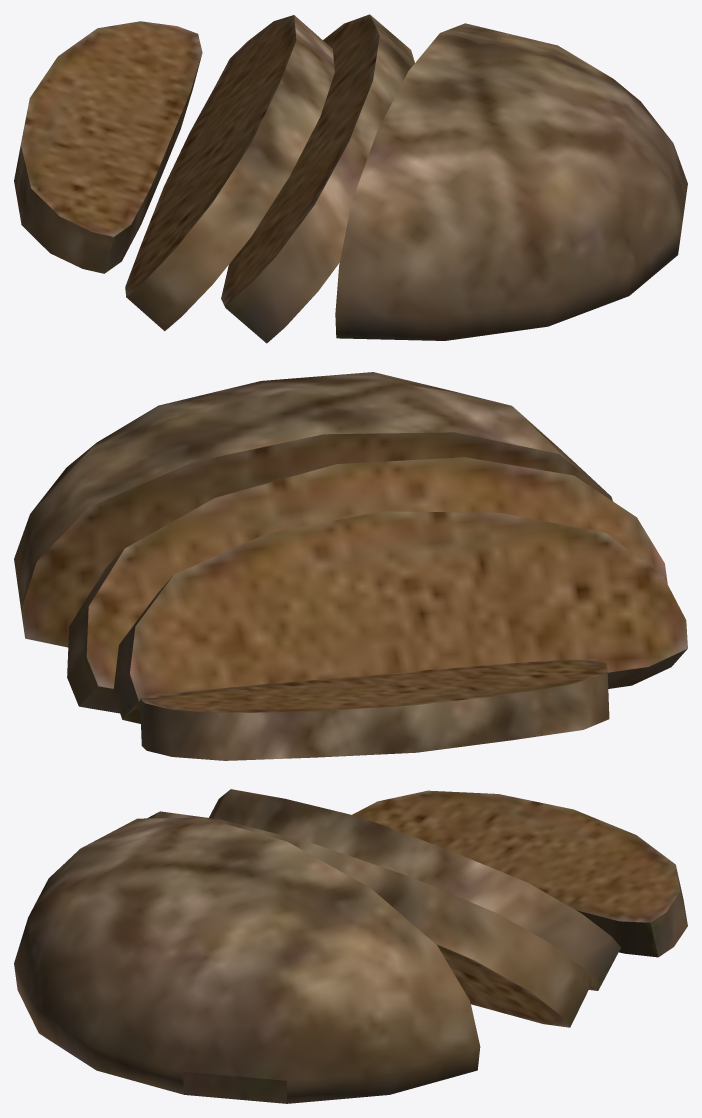
File: SM_BlackBreadSet_1c29e7.glb
3 renders of one model, top to bottom at view 1: azimuth 30°, elevation 25°; view 2: azimuth 150°, elevation 25°; view 3: azimuth 270°, elevation 25°, orthographic. The views are drawn at different scales.
Bounding box in the file's own units: 0.4615 × 0.1396 × 0.5021.
Materials: 1 (1 with a texture image).
